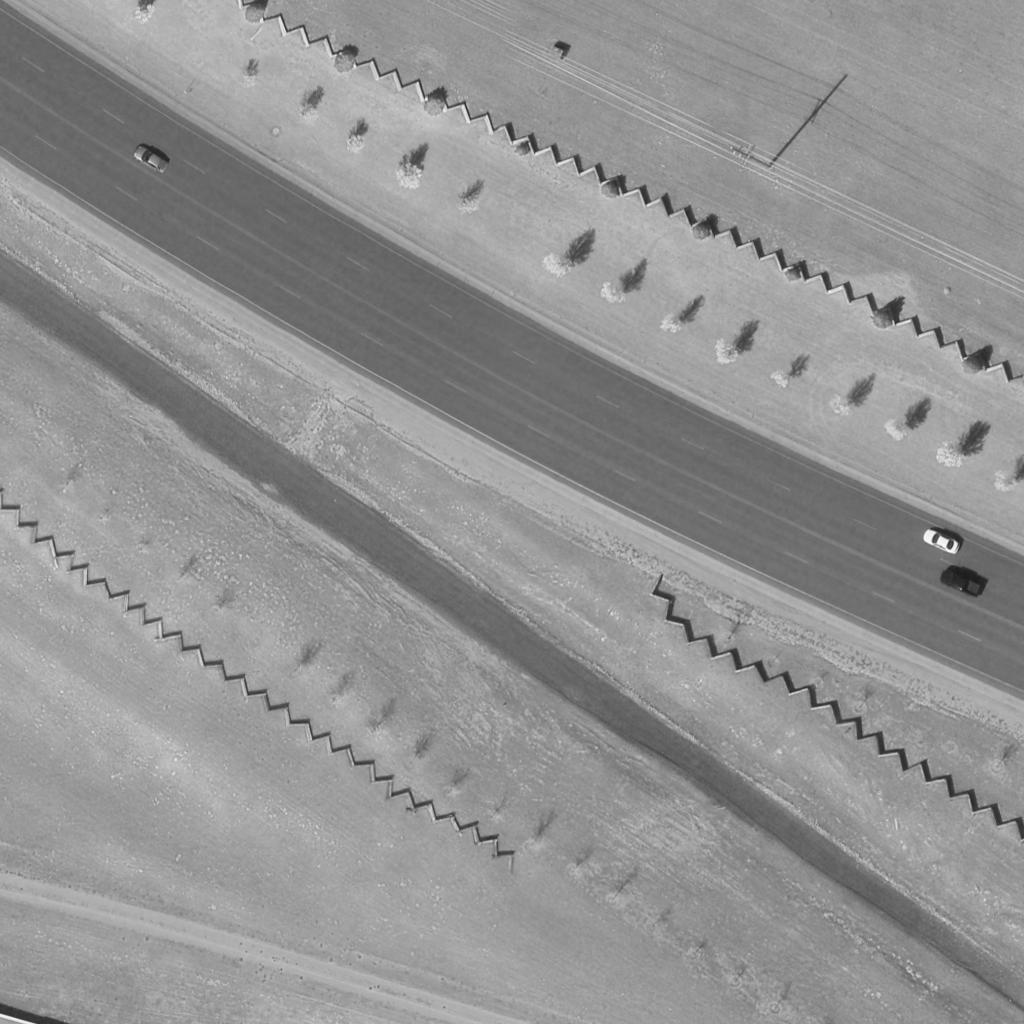vehicle: (939, 570, 983, 598), (133, 147, 169, 175), (922, 530, 960, 554)
